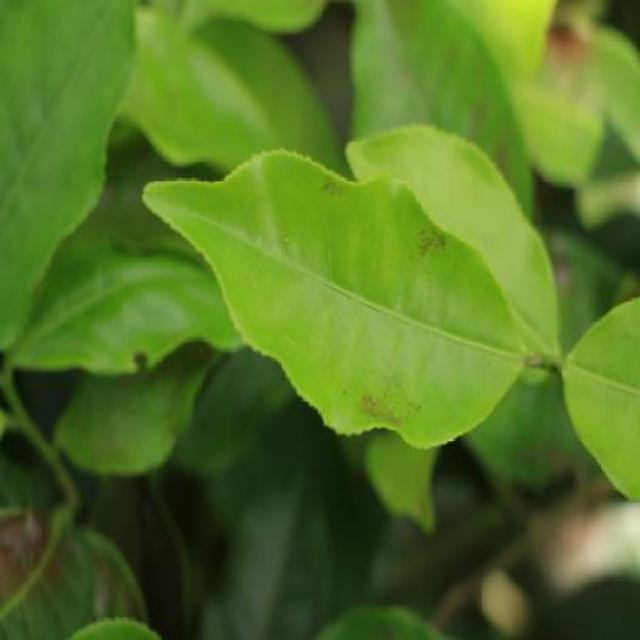Red Spider infested tea leaf: (196, 147, 546, 450)
